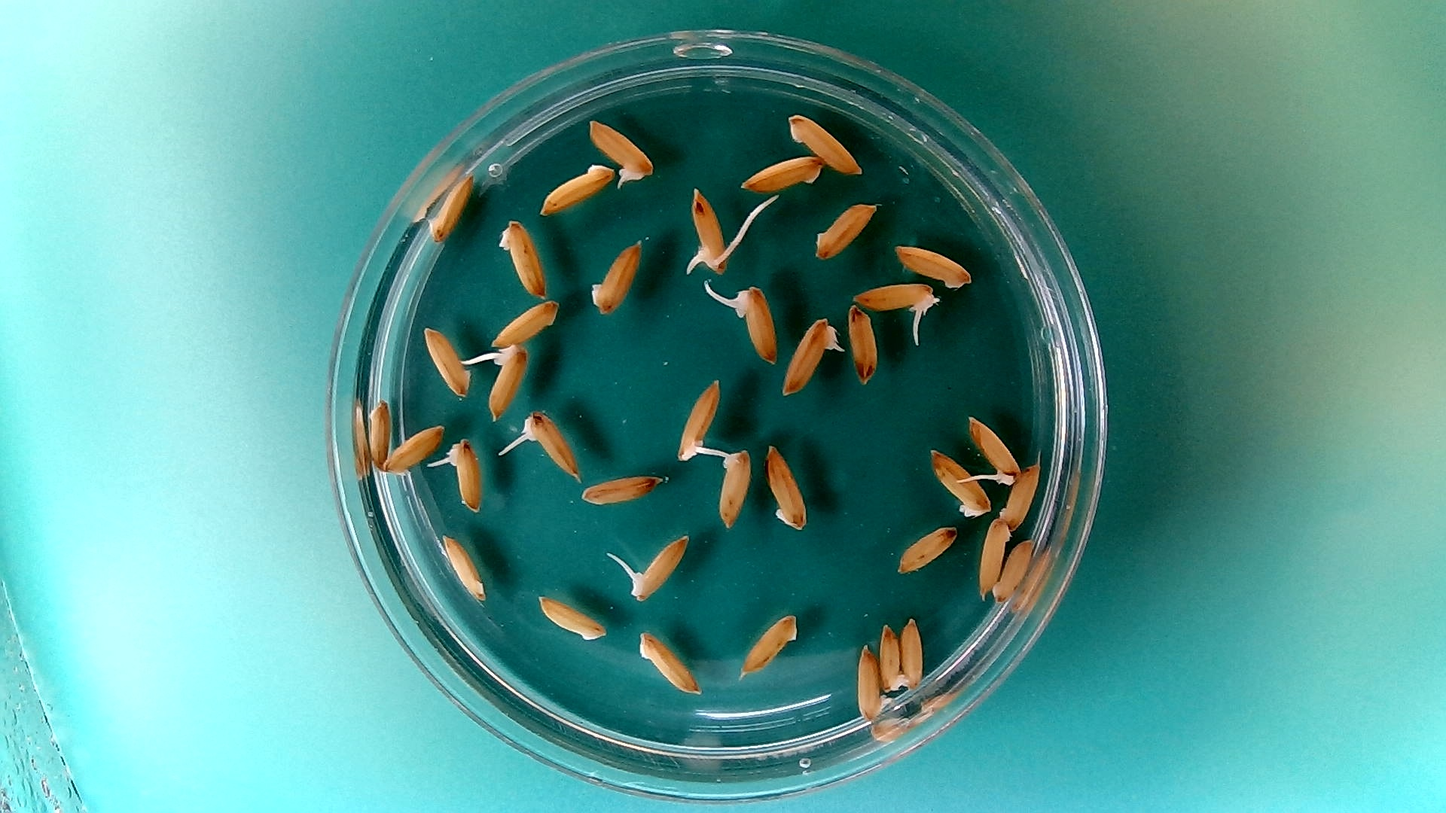no: (783, 109, 865, 177), (633, 626, 703, 698), (926, 444, 992, 519), (535, 159, 617, 217), (495, 215, 549, 300), (889, 238, 973, 290), (810, 198, 880, 260), (737, 609, 799, 678), (421, 322, 477, 398), (762, 443, 810, 531), (425, 169, 477, 244), (380, 416, 446, 475), (737, 150, 825, 193), (534, 591, 608, 642), (852, 641, 898, 723), (486, 297, 566, 344), (439, 530, 488, 603), (894, 522, 959, 576), (997, 458, 1043, 531), (714, 444, 753, 530), (578, 470, 662, 508), (975, 515, 1012, 601), (993, 536, 1036, 604), (846, 302, 880, 385), (898, 614, 927, 693), (366, 395, 395, 469), (877, 620, 906, 693)
yes: (779, 313, 843, 397), (585, 114, 656, 187), (721, 280, 780, 366), (514, 413, 584, 481), (587, 236, 645, 317), (630, 531, 693, 604), (673, 375, 723, 463), (685, 184, 731, 274), (964, 412, 1022, 483), (483, 340, 530, 423), (441, 434, 485, 513), (849, 281, 939, 314)
